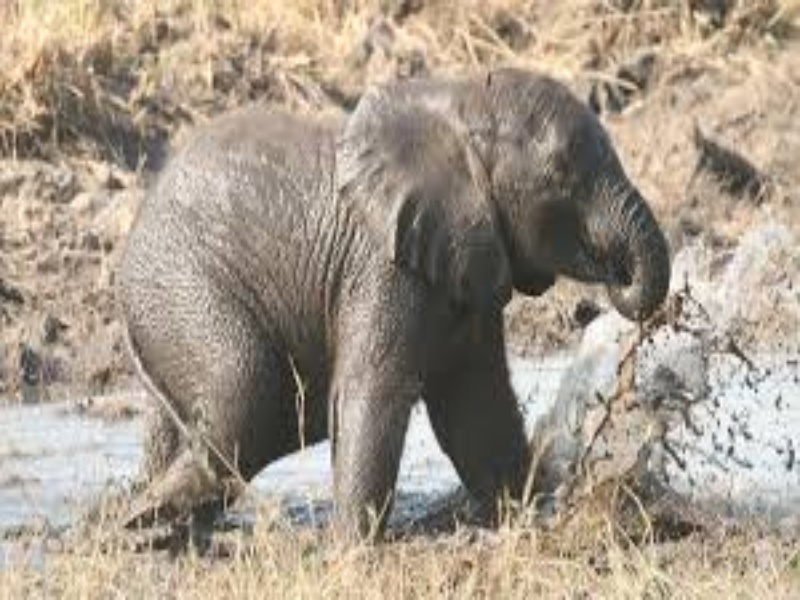elephant: (94, 57, 676, 514)
